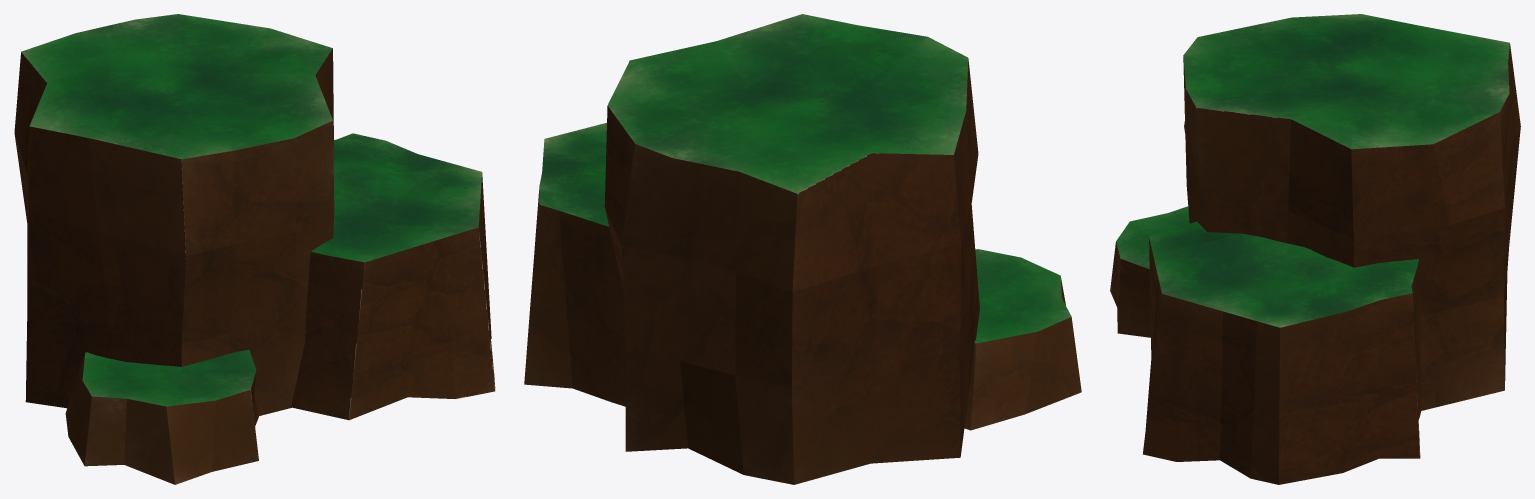
File: cliff.fbx
3 renders of one model, left to right at view 1: azimuth 30°, elevation 25°; view 2: azimuth 150°, elevation 25°; view 3: azimuth 270°, elevation 25°, orthographic. The views are drawn at different scales.
Parts seen in each view (by area): view 1: Cylinder001; view 2: Cylinder001; view 3: Cylinder001.
Part boxes in pixels (x1,y1,x2,y2): Cylinder001: (14, 14, 495, 484); Cylinder001: (524, 14, 1081, 484); Cylinder001: (1110, 14, 1520, 484).
Bounding box in the file's own units: 35.29 × 21.72 × 28.18.
